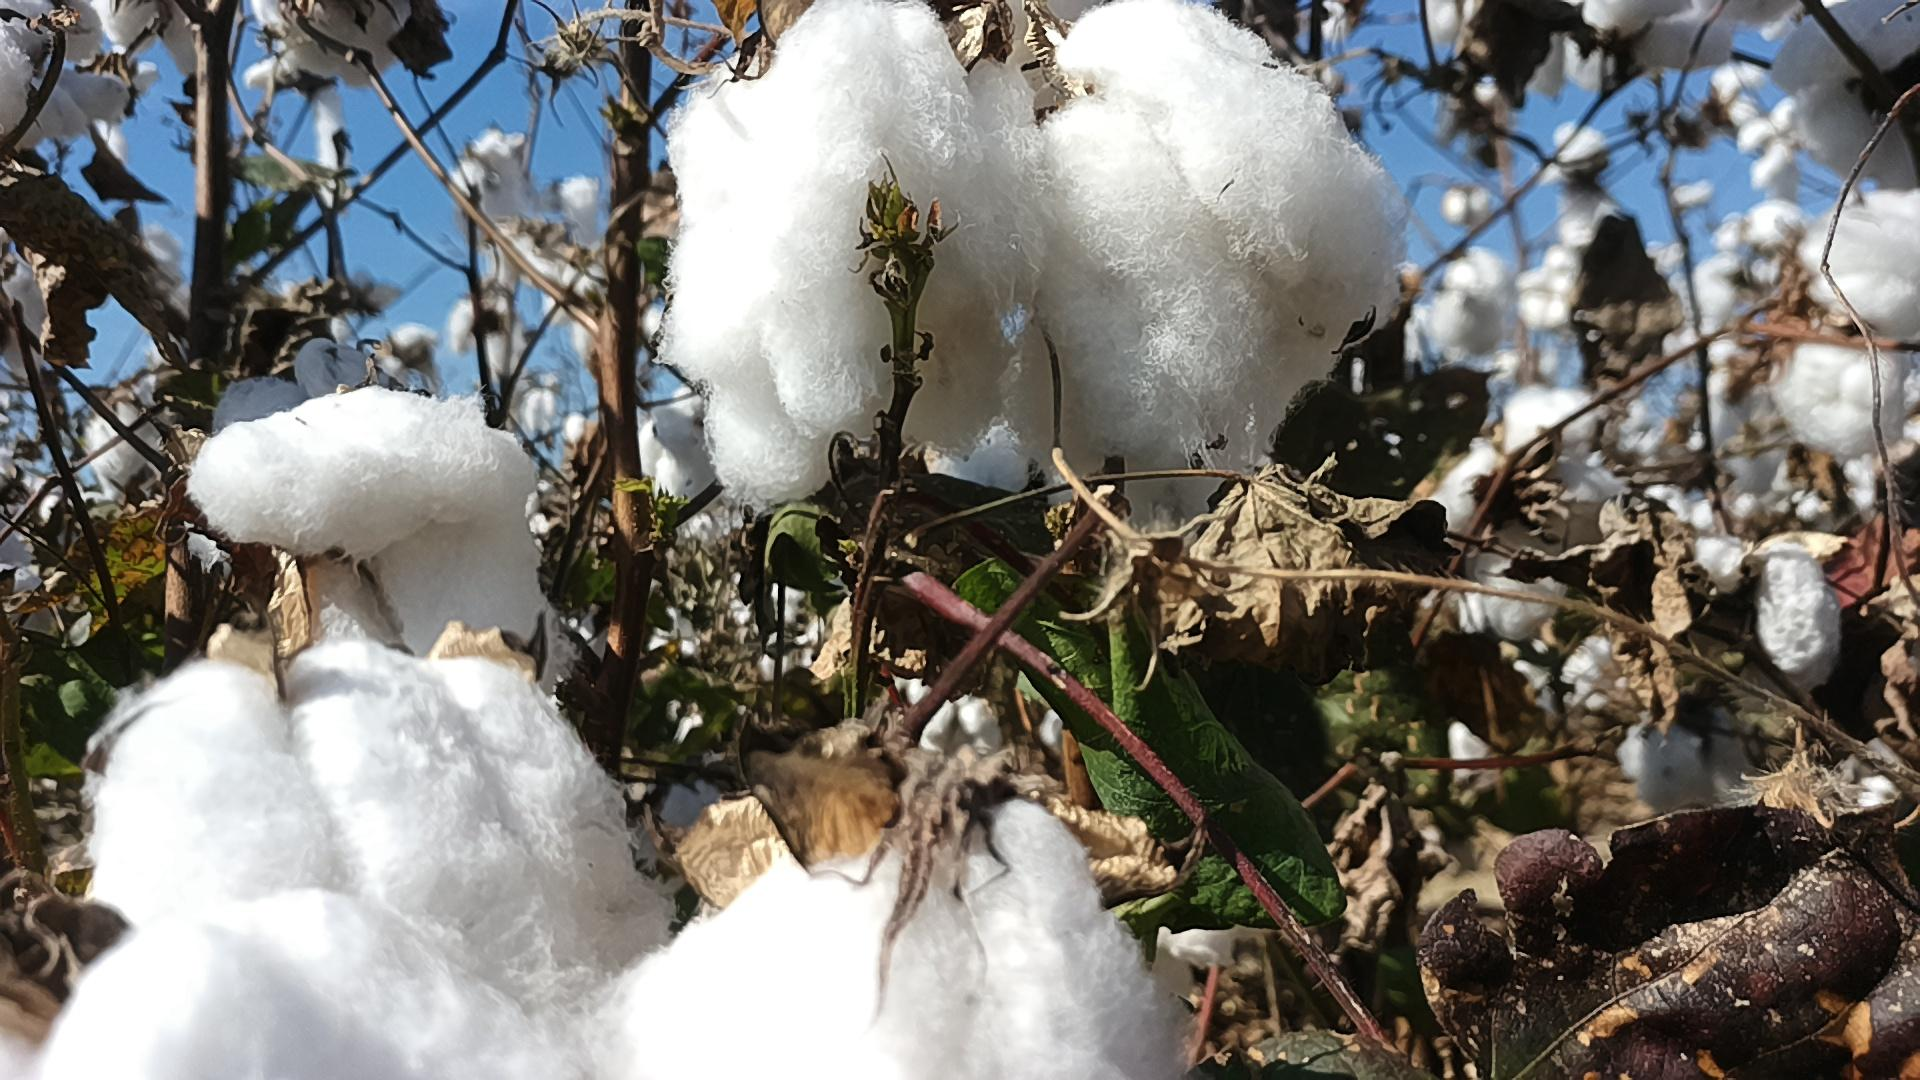cotton_ready: (84, 646, 680, 1036), (659, 0, 1048, 498), (1046, 0, 1408, 512), (605, 783, 1178, 1080), (18, 873, 596, 1080), (189, 343, 551, 673), (1428, 446, 1622, 629), (1768, 0, 1920, 191), (1696, 530, 1838, 695), (0, 0, 138, 153), (1623, 703, 1792, 815), (1774, 326, 1920, 454), (1793, 189, 1920, 327), (1560, 0, 1739, 86), (241, 0, 414, 78), (96, 0, 218, 86)
